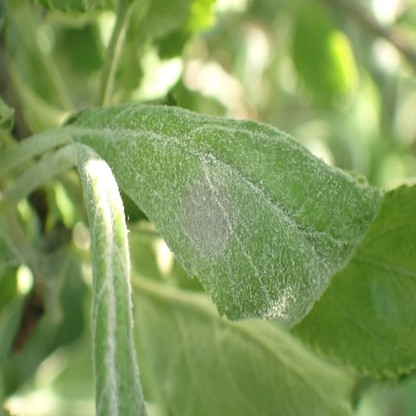powder: (72, 107, 382, 321), (76, 144, 147, 416)
